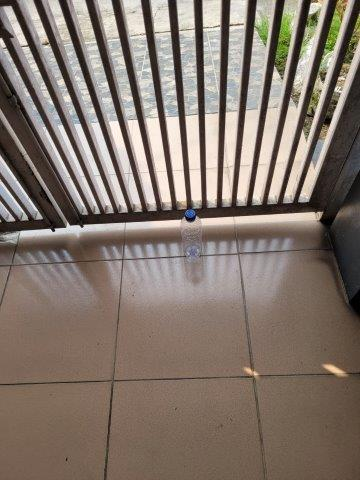botolplastik: (181, 209, 203, 259)
